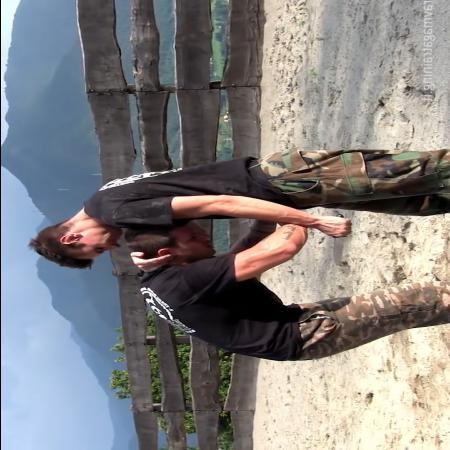long weapon: (320, 211, 352, 268)
